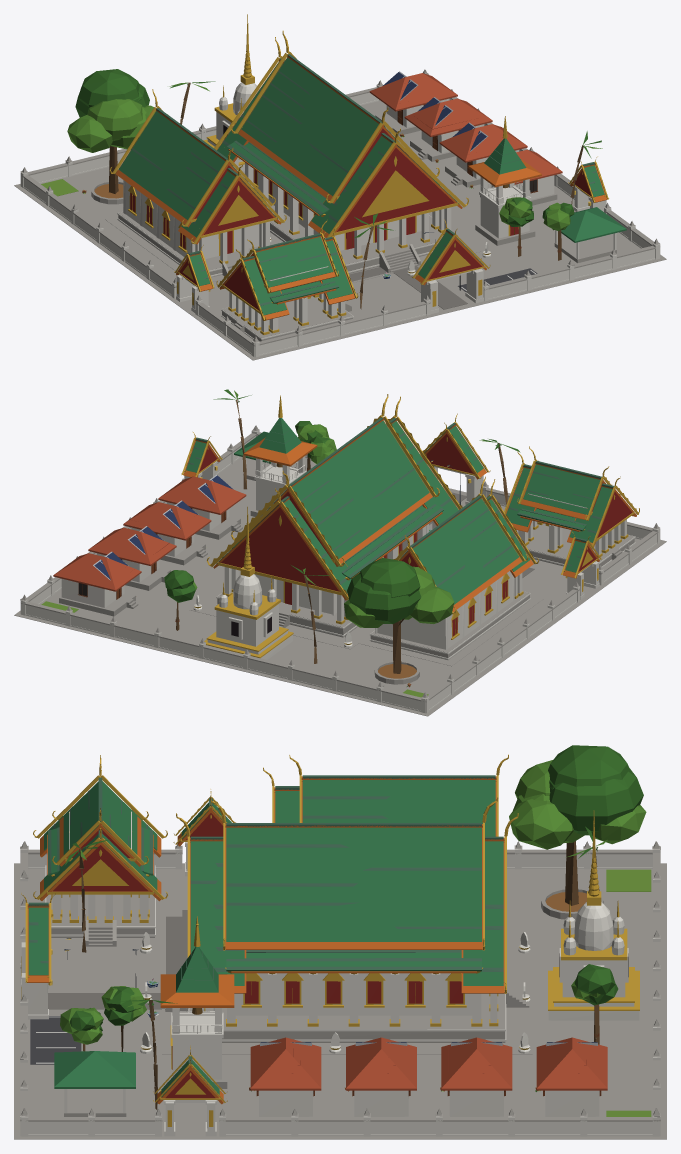
File: temple_3.glb
3 renders of one model, top to bottom at view 1: azimuth 30°, elevation 25°; view 2: azimuth 150°, elevation 25°; view 3: azimuth 270°, elevation 25°, orthographic. The views are drawn at different scales.
Parts seen in each view (by area): view 1: body; view 2: body; view 3: body.
Part boxes in pixels (x1,y1,x2,y2): body: (14,14,666,360); body: (14,389,666,716); body: (14,745,666,1139).
Size of the model in its own units: 47.9 by 16.87 by 47.9.
